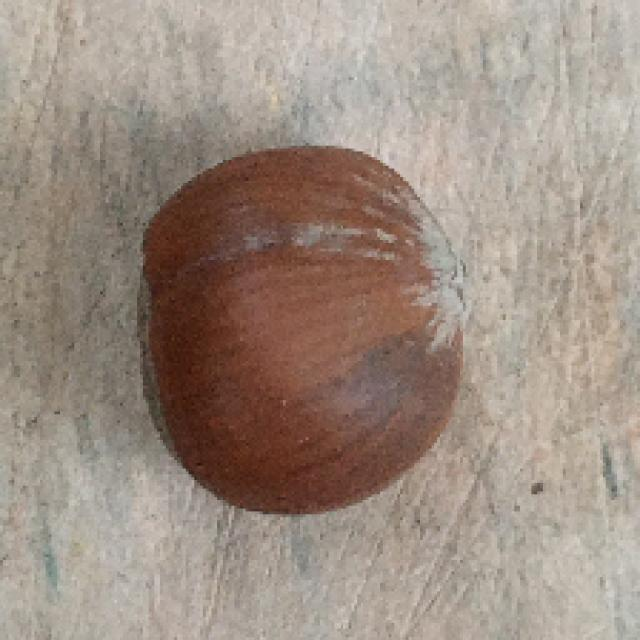qualityHazelnut: (139, 135, 476, 528)
